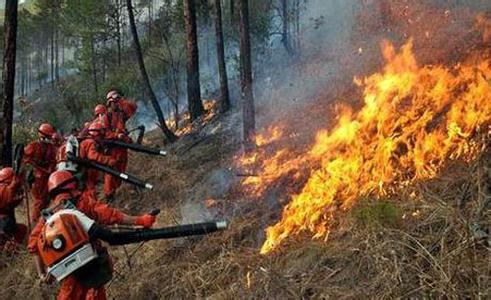fire: (252, 52, 491, 255), (167, 117, 174, 128)
